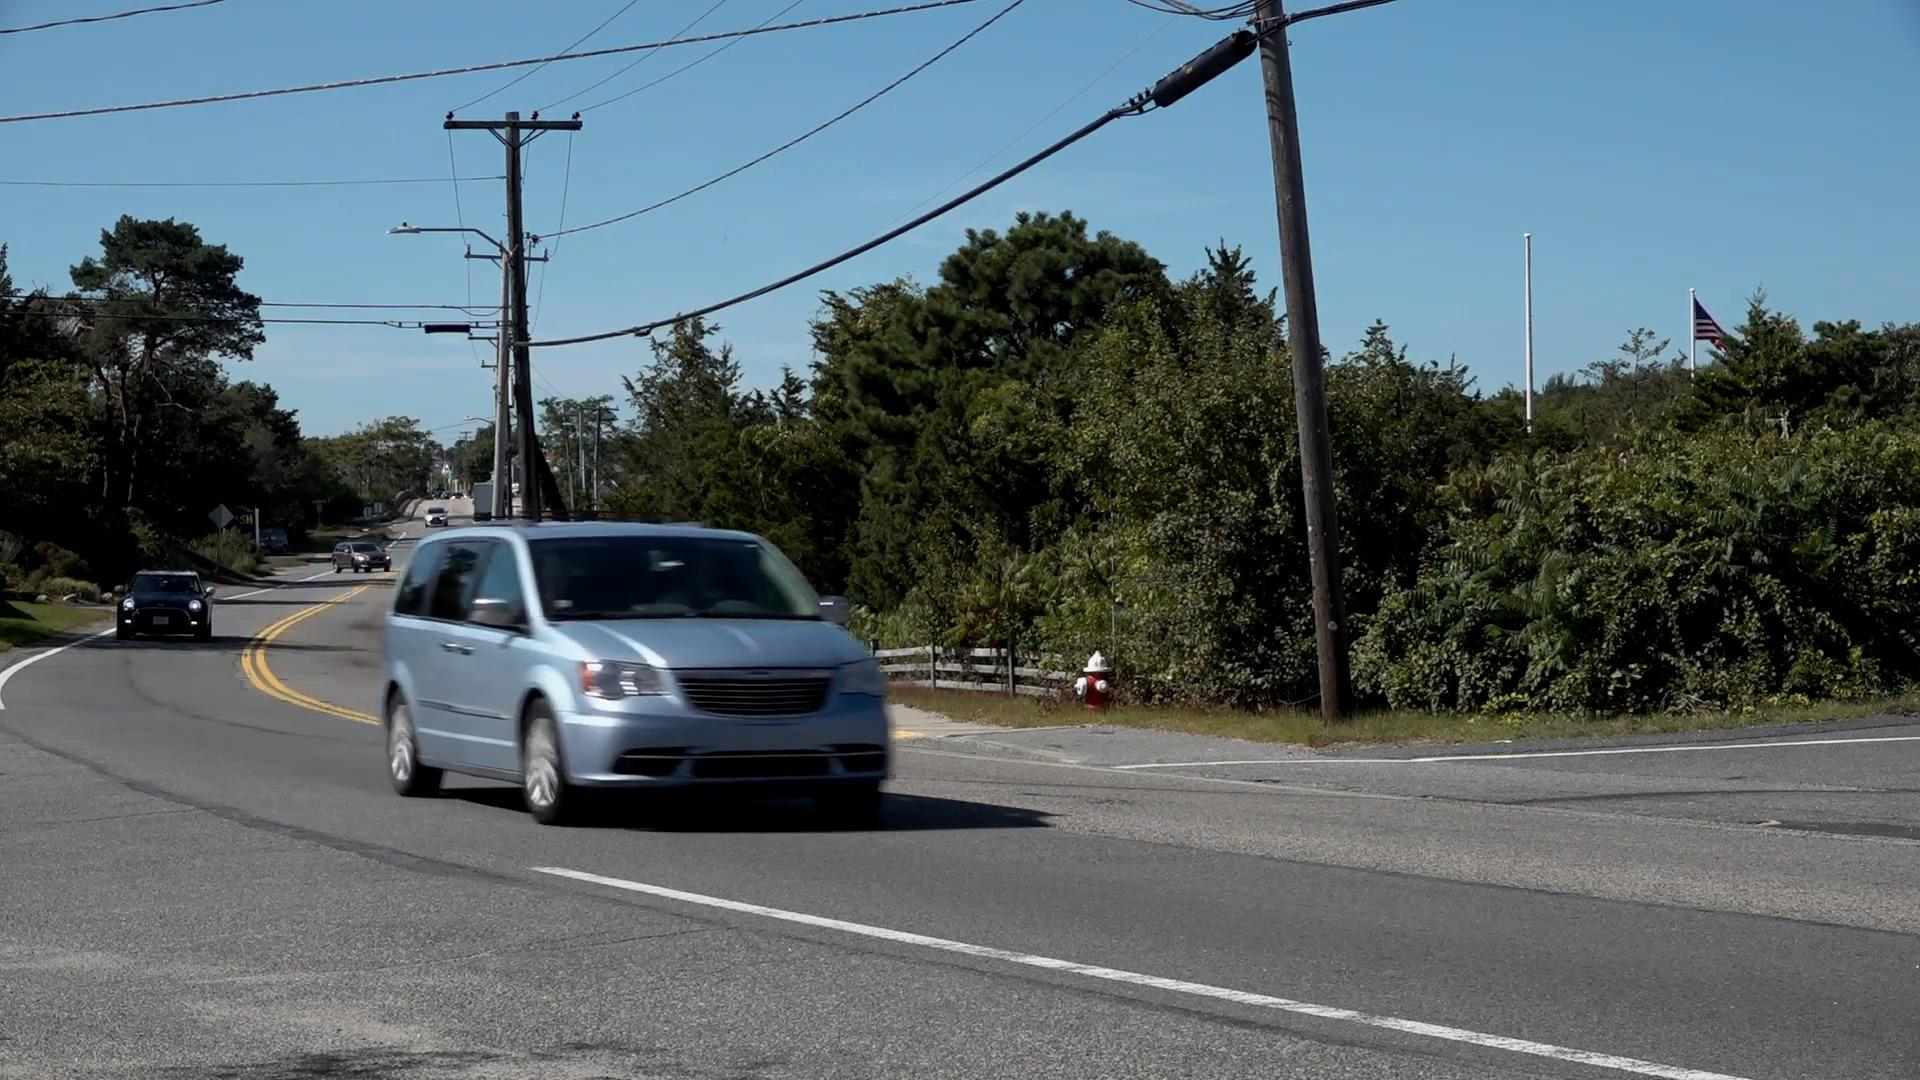minivan: (381, 527, 897, 831)
sedans: (115, 562, 214, 646)
